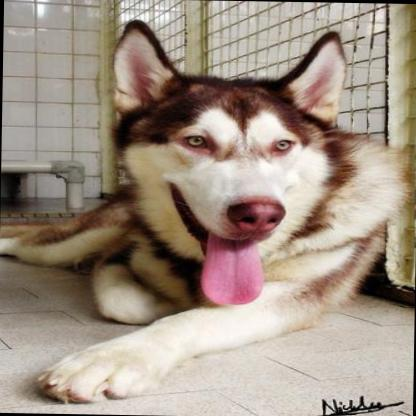malamute: (0, 14, 414, 410)
